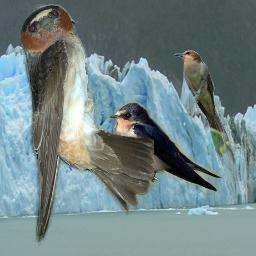Cuckoo: (174, 50, 231, 159)
Swallow: (19, 4, 154, 246), (108, 100, 222, 195)
